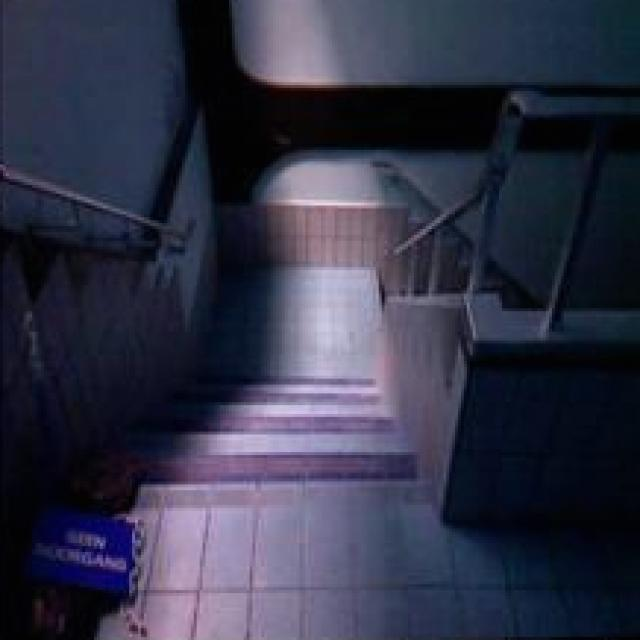downstair: (98, 368, 427, 515)
